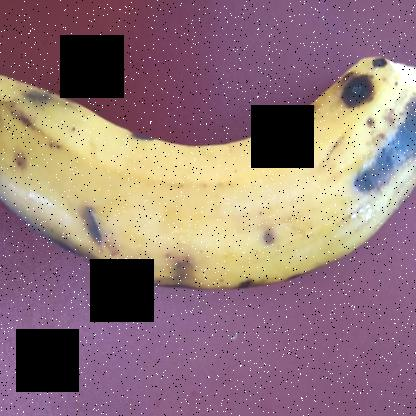ripe: (1, 23, 415, 298)
